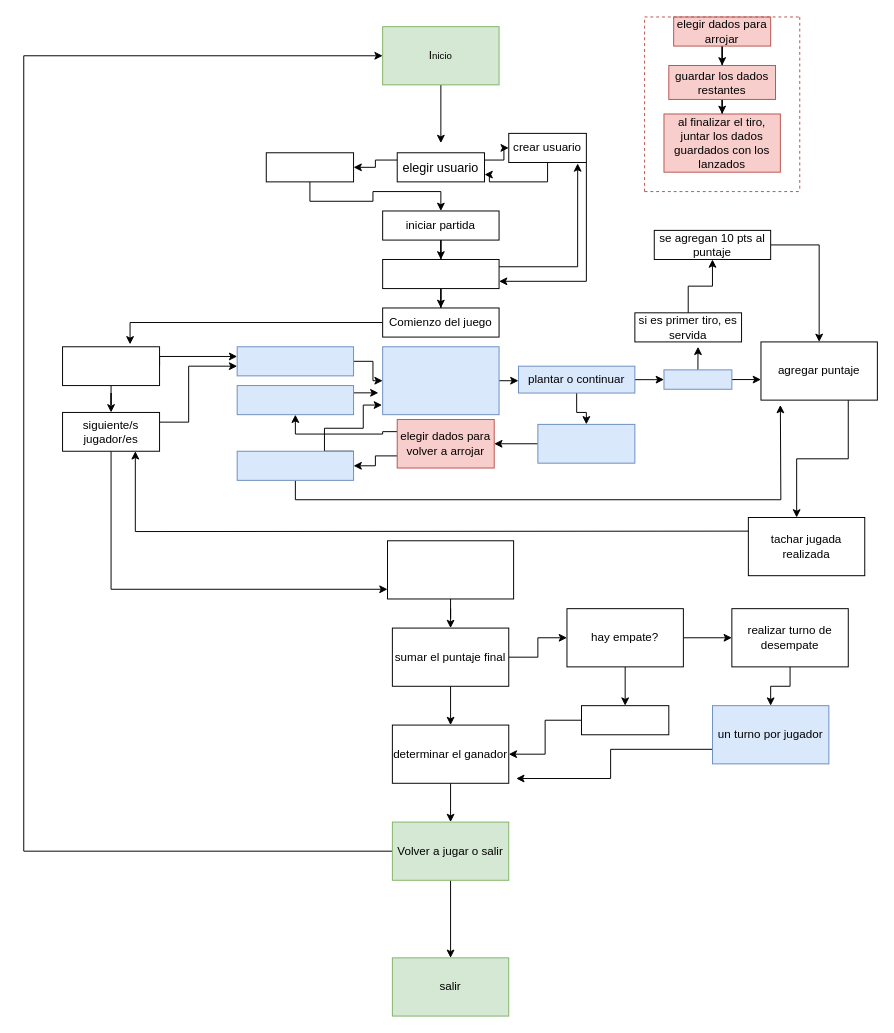
Image size: 894x1033. Some labels were removed from this diagram. Here are the shapes that lost their labels. From the top down, the centre of each, then its label:
point (309, 167): iniciar sesion
point (440, 274): elegir jugadores
point (111, 366): jugador 1
point (295, 361): primer tiro
point (440, 380): chequear jugadas
point (697, 379): planta
point (295, 400): segundo tiro
point (586, 443): continua
point (295, 465): tercer tiro
point (450, 569): 11 turnos alternados por jugador
point (625, 720): no
